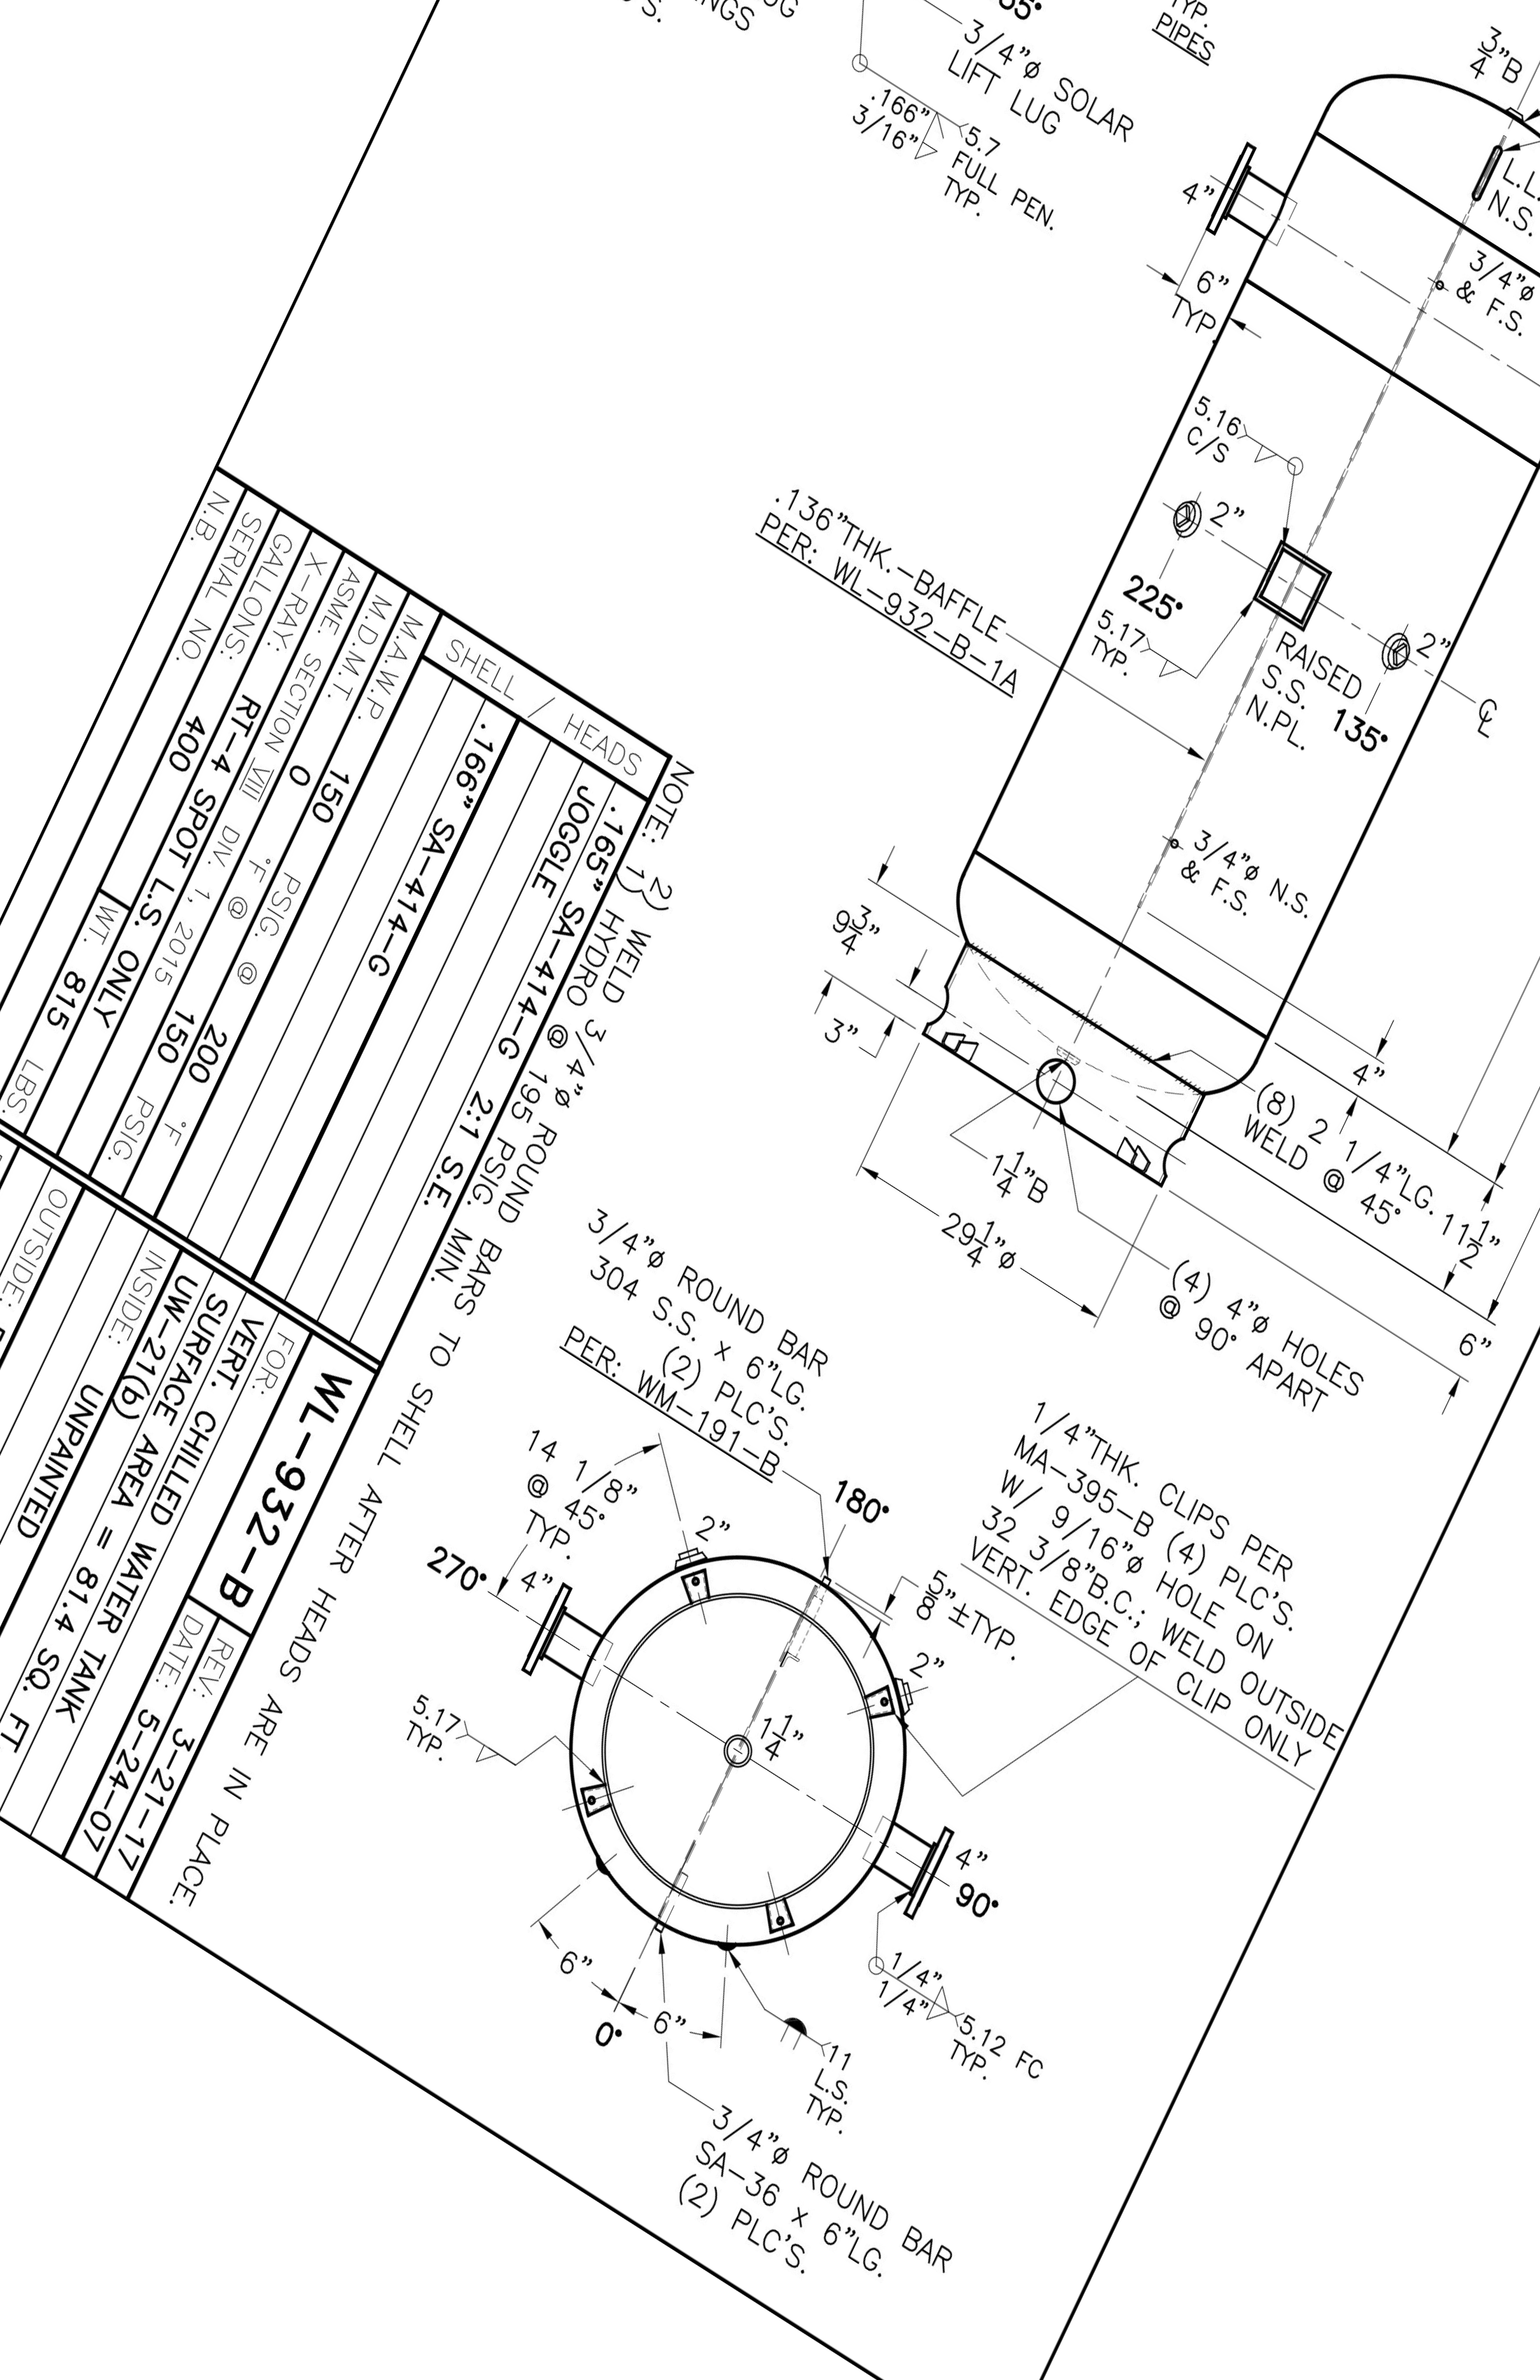Nozzle: (1214, 101, 1315, 269), (505, 1582, 626, 1707), (871, 1783, 982, 1915)
